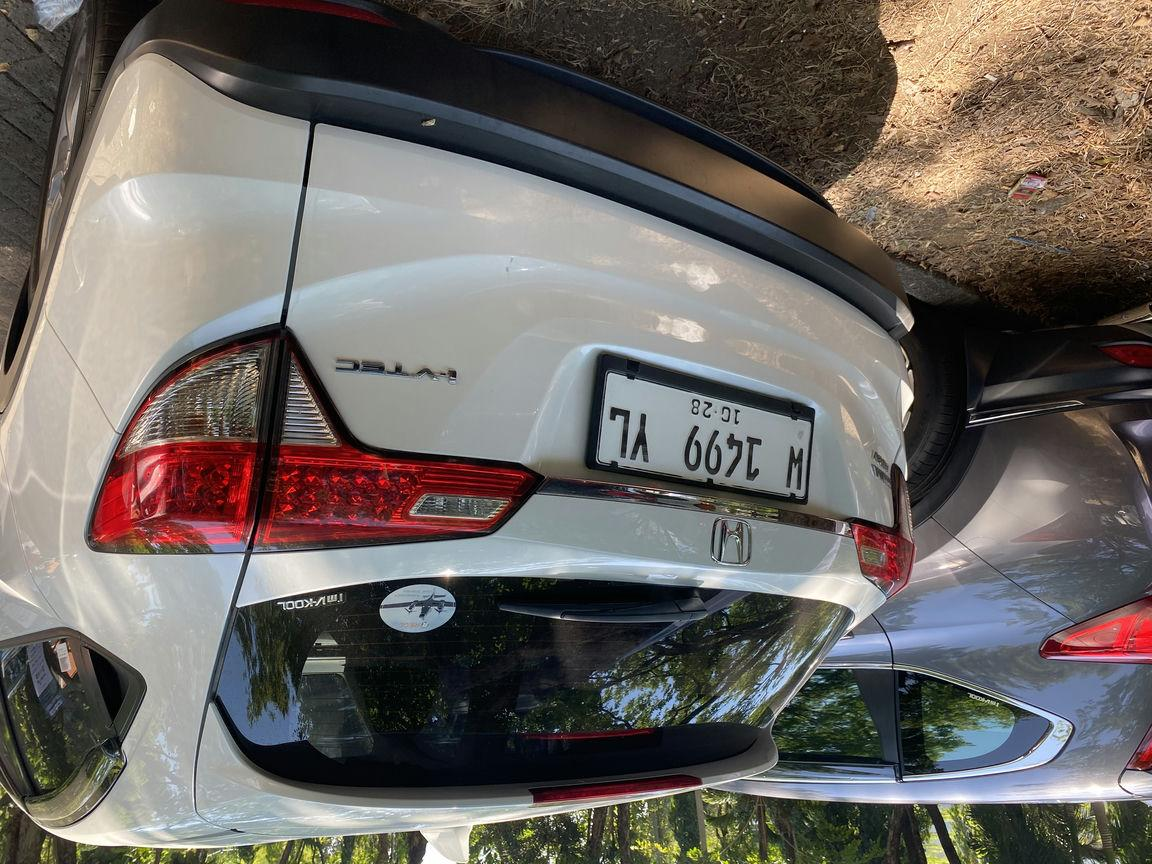plat: (338, 362, 562, 507)
